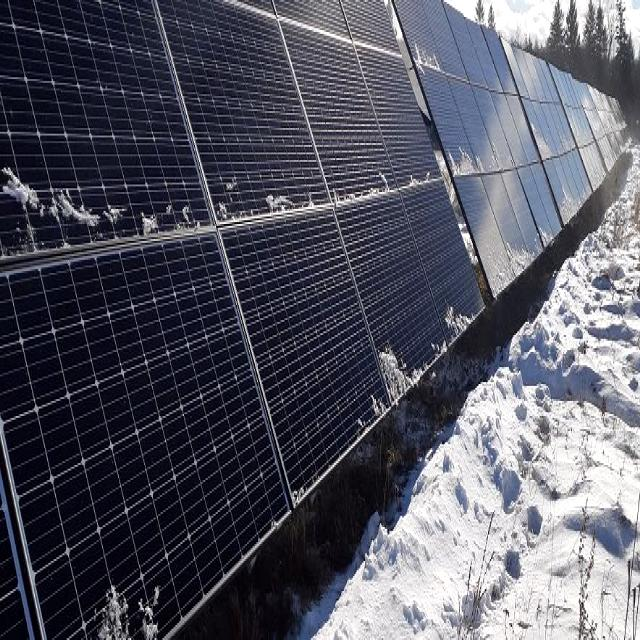panel: (3, 139, 194, 240), (212, 154, 320, 246), (73, 537, 166, 640), (372, 302, 460, 398), (326, 160, 452, 216), (490, 218, 559, 289), (446, 137, 506, 197), (526, 106, 582, 155), (412, 21, 452, 85), (551, 173, 601, 211)
